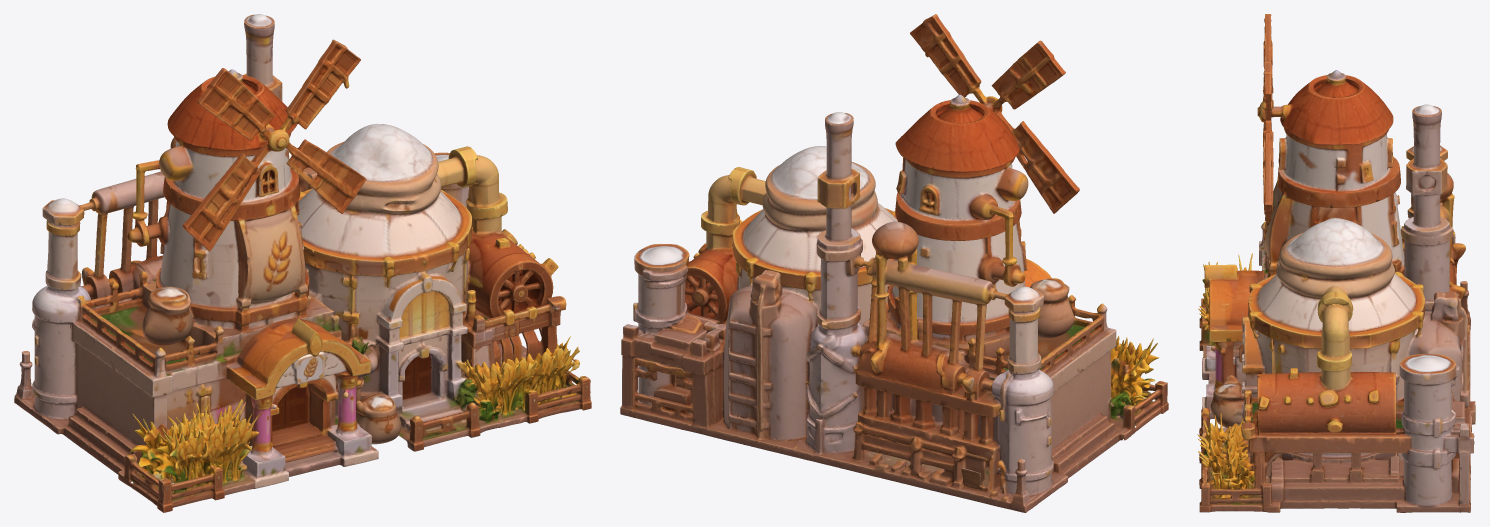
The model's file is Meshy_AI_Golden_Wheatmill_Haven_20261118_texture.fbx.
3 views of the same model, side by side, from view 1: azimuth 30°, elevation 25°; view 2: azimuth 150°, elevation 25°; view 3: azimuth 270°, elevation 25° (orthographic). The views are drawn at different scales.
Visible parts, largest first — view 1: Mesh_0; view 2: Mesh_0; view 3: Mesh_0.
Boxes of the visible parts, x1,y1,x2,y2 form: Mesh_0: (14, 14, 591, 512); Mesh_0: (620, 14, 1168, 512); Mesh_0: (1197, 14, 1475, 512).
Size of the model in its own units: 189 by 162 by 115.
1 material, 1 textured.
